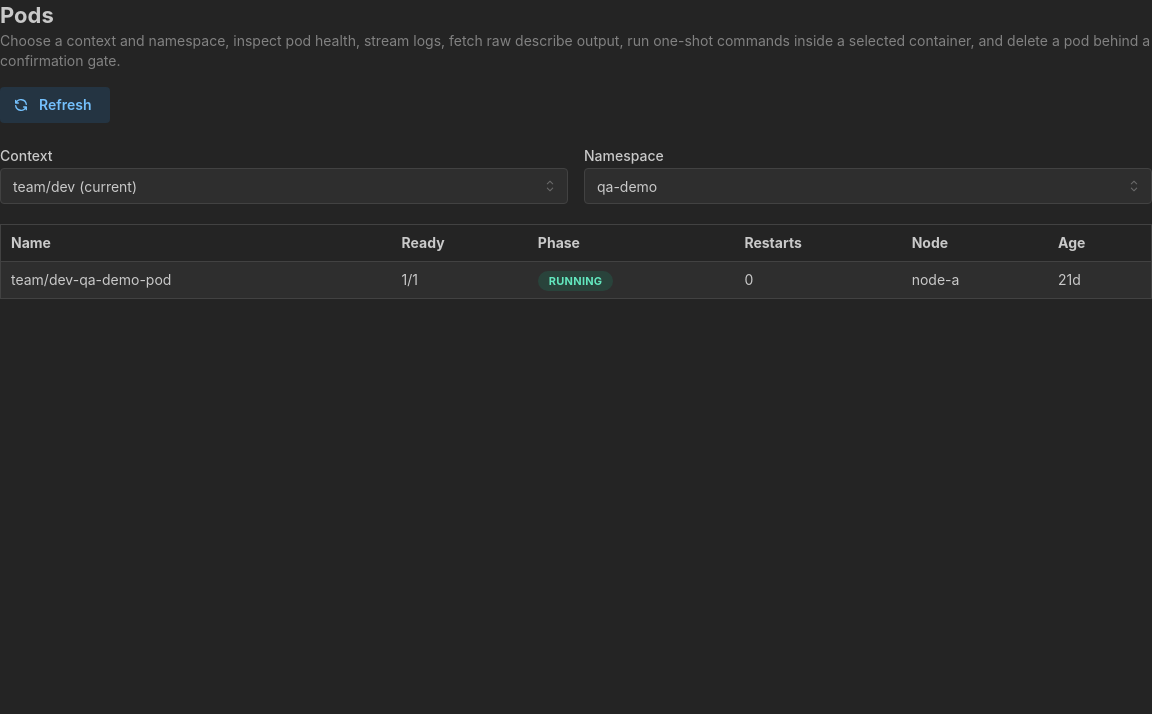
it: PodsPanel › shows the exec card only when the user has kuber.exec
Click the text "team/dev-qa-demo-pod": (91, 280) [0, 261, 392, 298]
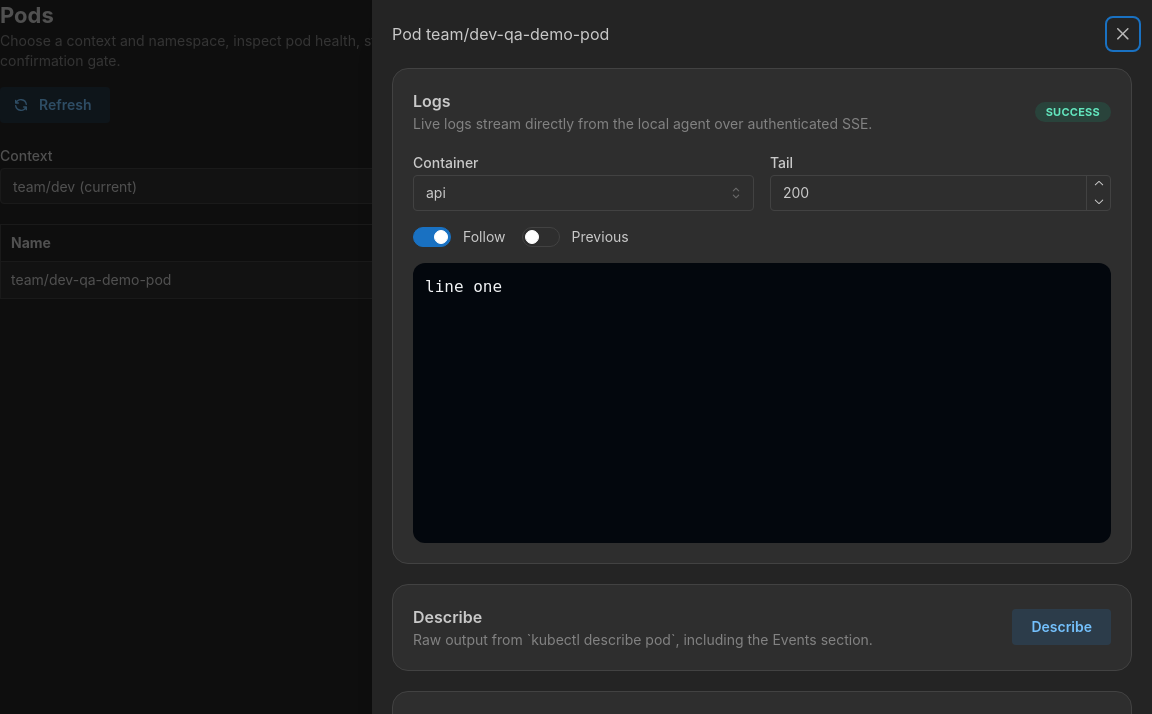
Now the text "Logs" is shown, box [413, 91, 451, 111]
